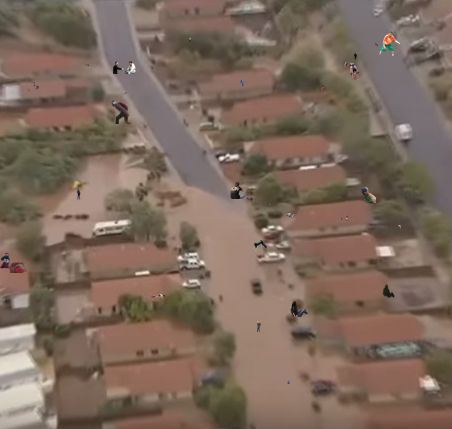Human: (379, 31, 401, 56), (0, 253, 27, 273), (290, 301, 321, 318), (111, 100, 132, 124), (113, 61, 136, 74), (344, 62, 359, 80), (230, 182, 245, 199), (361, 187, 376, 203), (382, 284, 395, 298), (253, 240, 267, 252), (151, 294, 170, 300), (28, 82, 39, 91), (337, 215, 348, 221), (246, 195, 253, 203), (77, 188, 81, 200), (257, 321, 261, 332), (239, 79, 244, 87), (287, 212, 294, 217), (321, 85, 324, 93), (395, 225, 401, 229), (354, 53, 357, 60), (211, 298, 214, 305), (220, 294, 223, 301), (122, 92, 127, 95), (85, 64, 89, 67), (375, 42, 378, 46), (287, 380, 290, 384), (247, 96, 249, 101), (189, 37, 191, 42), (267, 204, 272, 206), (151, 66, 153, 71)
